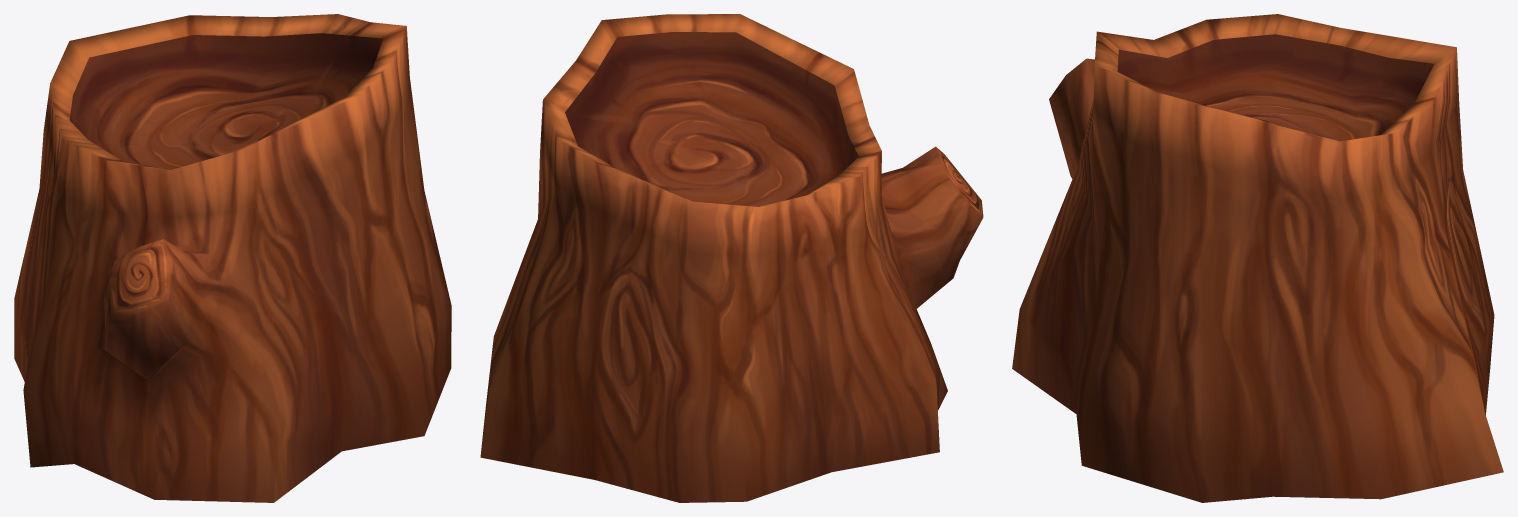
The model's file is TreeStump.fbx.
The picture shows the model from 3 angles, left to right: view 1: azimuth 30°, elevation 25°; view 2: azimuth 150°, elevation 25°; view 3: azimuth 270°, elevation 25°; orthographic projection. The views are drawn at different scales.
Visible parts, largest first — view 1: Cube; view 2: Cube; view 3: Cube.
Boxes of the visible parts, x1,y1,x2,y2 form: Cube: [14, 14, 451, 502]; Cube: [480, 14, 983, 502]; Cube: [1012, 14, 1503, 502].
Size of the model in its own units: 109 by 90.5 by 106.
1 material, 1 textured.
